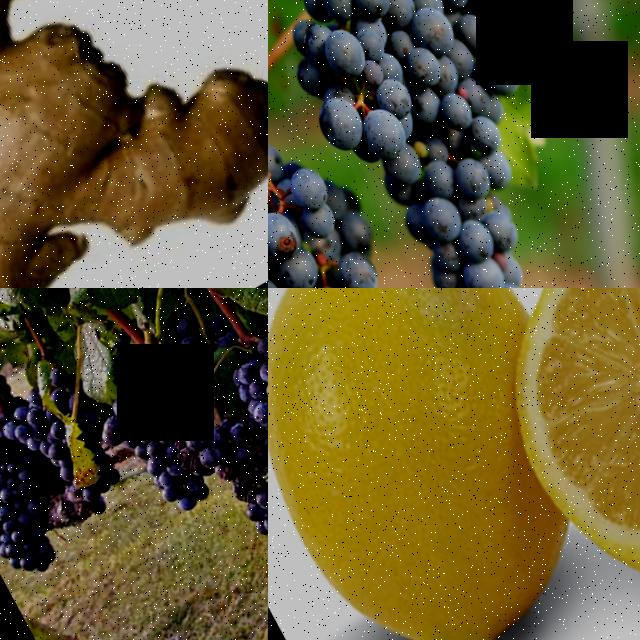ginger: (0, 0, 268, 288)
grapes: (268, 0, 640, 288), (268, 146, 491, 288), (75, 353, 236, 538), (173, 396, 268, 571), (0, 417, 69, 591), (208, 313, 268, 469)
lemon: (268, 288, 604, 640), (469, 288, 640, 640)
